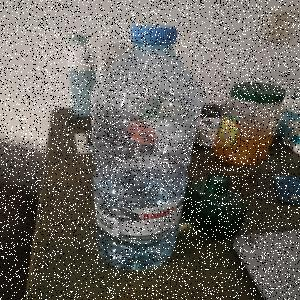Plastic-bottle: (90, 24, 206, 274), (66, 34, 96, 120)
